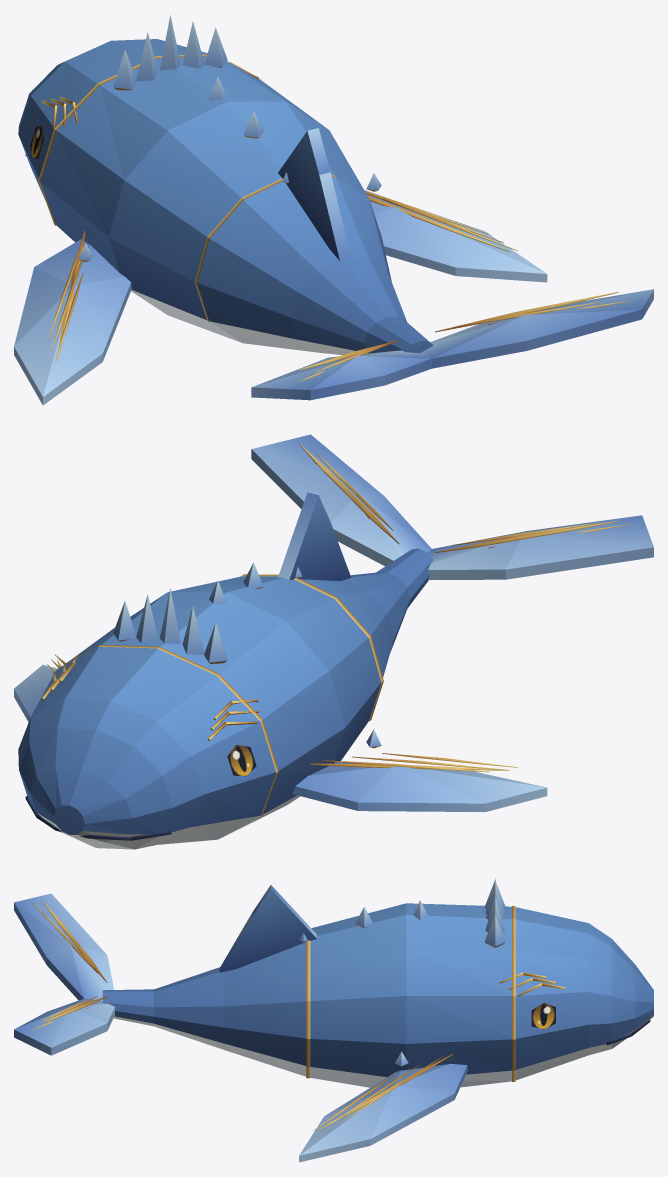
The model's file is SkyWhale_S9RoyalReview.glb.
3 views of the same model, one above another, from view 1: azimuth 30°, elevation 25°; view 2: azimuth 150°, elevation 25°; view 3: azimuth 270°, elevation 25° (orthographic). The views are drawn at different scales.
Parts seen in each view (by area): view 1: WhaleBody, LeftPectoralFin, RightTailFluke, RightPectoralFin, LeftTailFluke, DorsalFin, RoyalHarness4, S9CrownCrystal2, S9CrownCrystal1, RoyalHarness6, S9CrownCrystal3, RightTailGoldInlay; view 2: WhaleBody, LeftPectoralFin, RightTailFluke, LeftTailFluke, DorsalFin, RightPectoralFin, RoyalHarness4, LeftEye, LeftTailGoldInlay, S9CrownCrystal2, RoyalHarness6, RightTailGoldInlay (+1 smaller); view 3: WhaleBody, RightPectoralFin, LeftTailFluke, DorsalFin, RightTailFluke, RoyalHarness4, RoyalHarness6, RightEye.
Part boxes in pixels (x1,y1,x2,y2): WhaleBody: (18,39,433,354); LeftPectoralFin: (14,239,131,405); RightTailFluke: (420,289,653,368); RightPectoralFin: (364,190,547,282); LeftTailFluke: (251,350,431,400); DorsalFin: (278,128,351,261); RoyalHarness4: (38,54,261,225); S9CrownCrystal2: (159,15,180,70); S9CrownCrystal1: (136,32,158,81); RoyalHarness6: (195,175,368,322); S9CrownCrystal3: (182,21,204,68); RightTailGoldInlay: (435,292,618,332); WhaleBody: (18,548,433,849); LeftPectoralFin: (292,762,547,811); RightTailFluke: (251,434,431,566); LeftTailFluke: (428,515,653,579); DorsalFin: (278,492,351,580); RightPectoralFin: (14,664,57,721); RoyalHarness4: (55,645,278,816); LeftEye: (227,745,256,776); LeftTailGoldInlay: (435,521,618,552); S9CrownCrystal2: (160,588,180,643); RoyalHarness6: (241,574,383,721); RightTailGoldInlay: (299,443,399,543); WhaleBody: (102,903,653,1087); RightPectoralFin: (299,1063,467,1162); LeftTailFluke: (14,893,113,1000); DorsalFin: (219,885,317,972); RightTailFluke: (14,998,114,1055); RoyalHarness4: (512,906,515,1081); RoyalHarness6: (306,940,310,1078); RightEye: (531,1003,555,1029).
Bounding box in the file's own units: 137 × 67.45 × 192.
1 material, 1 textured.
